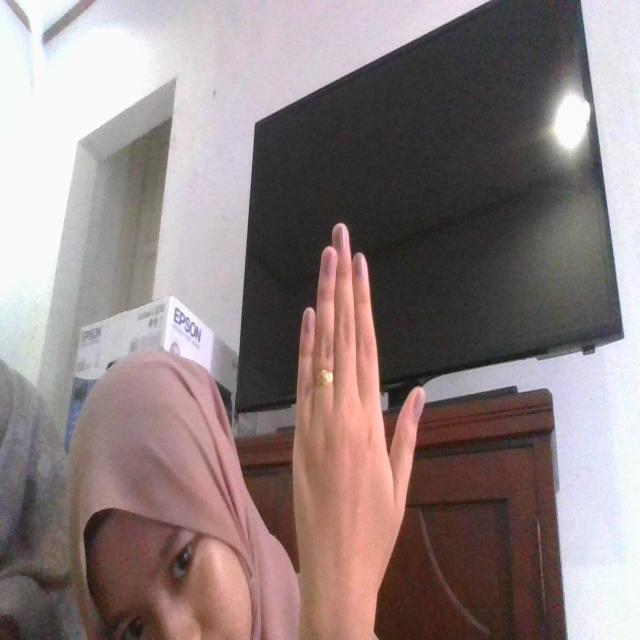hand: (294, 219, 433, 622)
